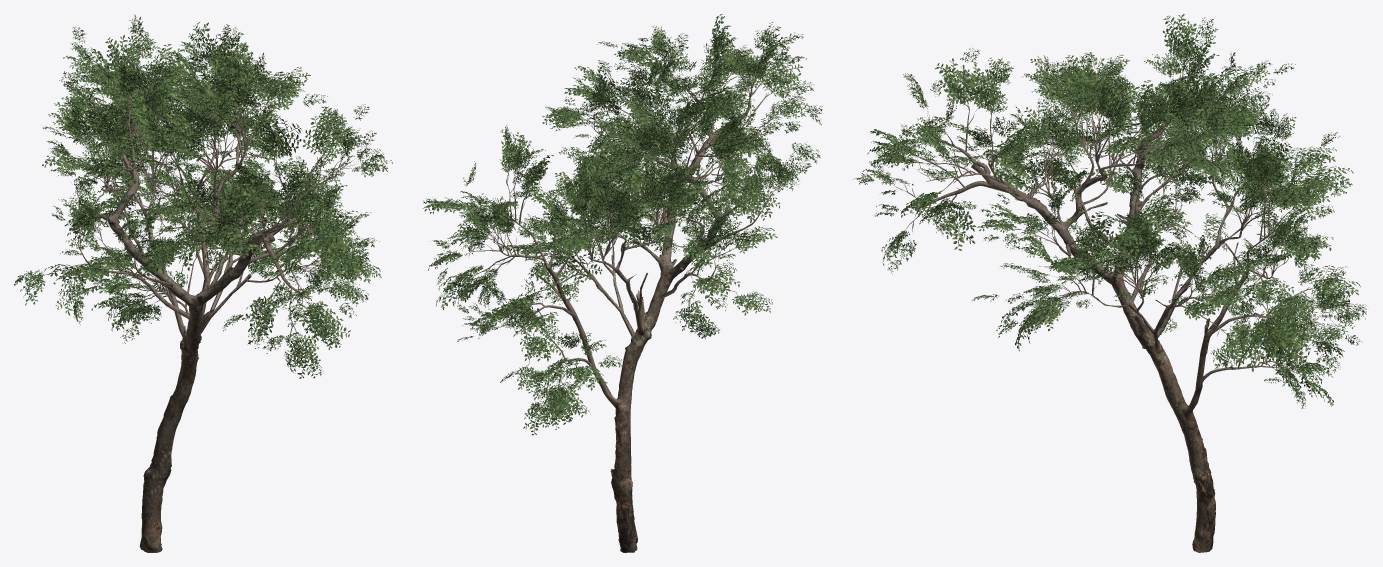
Rendered from ph-tree-small.glb.
3 renders of one model, left to right at view 1: azimuth 30°, elevation 25°; view 2: azimuth 150°, elevation 25°; view 3: azimuth 270°, elevation 25°, orthographic. The views are drawn at different scales.
Parts seen in each view (by area): view 1: tree_small_02_LOD0; view 2: tree_small_02_LOD0; view 3: tree_small_02_LOD0.
Part boxes in pixels (box(x1,y1,x2,y2)): tree_small_02_LOD0: box(14, 14, 392, 552); tree_small_02_LOD0: box(422, 14, 822, 552); tree_small_02_LOD0: box(852, 14, 1366, 552).
Bounding box in the file's own units: 2.92 × 4.56 × 4.29.
Materials: 3 (3 with a texture image).
